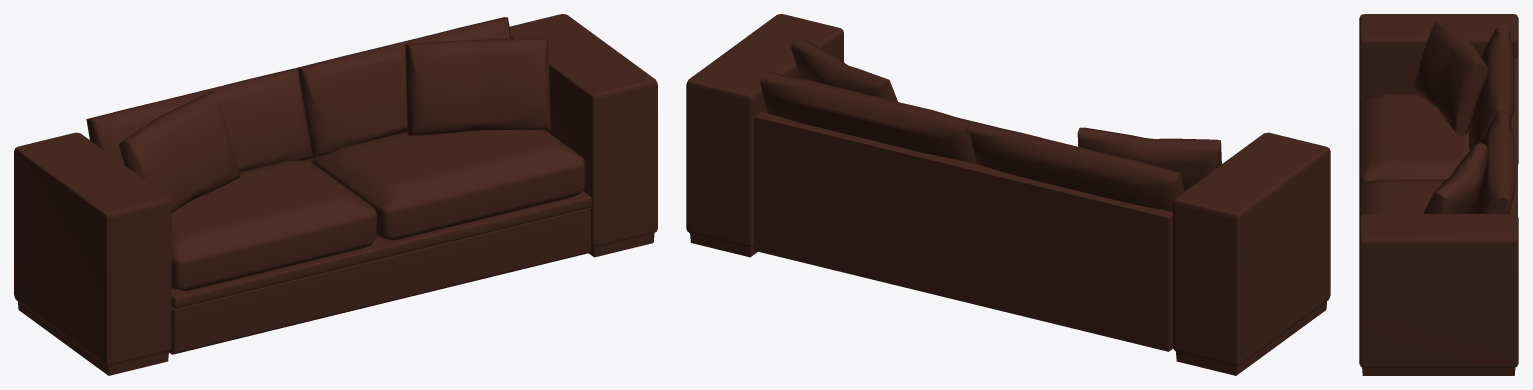
Rendered from SofaReady.fbx.
3 views of the same model, side by side, from view 1: azimuth 30°, elevation 25°; view 2: azimuth 150°, elevation 25°; view 3: azimuth 270°, elevation 25° (orthographic). The views are drawn at different scales.
Visible parts, largest first — view 1: polySurface748; view 2: polySurface748; view 3: polySurface748.
Boxes of the visible parts, x1=… form: polySurface748: x1=14, y1=14, x2=657, y2=375; polySurface748: x1=686, y1=14, x2=1330, y2=375; polySurface748: x1=1359, y1=14, x2=1518, y2=375.
Bounding box in the file's own units: 808 × 265 × 239.
